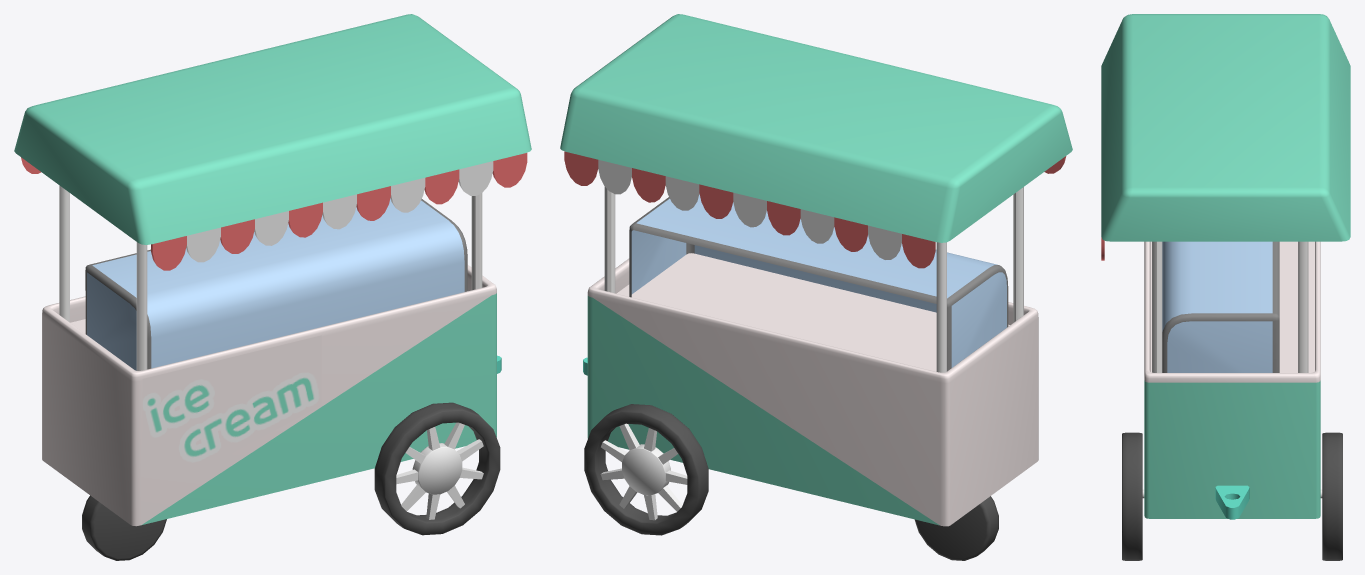
File: Icecream.FBX
3 views of the same model, side by side, from view 1: azimuth 30°, elevation 25°; view 2: azimuth 150°, elevation 25°; view 3: azimuth 270°, elevation 25° (orthographic). The views are drawn at different scales.
Visible parts, largest first — view 1: Icecream; view 2: Icecream; view 3: Icecream.
Part boxes in pixels (x1=…): Icecream: x1=14, y1=14, x2=531, y2=560; Icecream: x1=560, y1=14, x2=1072, y2=560; Icecream: x1=1101, y1=14, x2=1350, y2=560.
Bounding box in the file's own units: 252 × 241 × 135.
